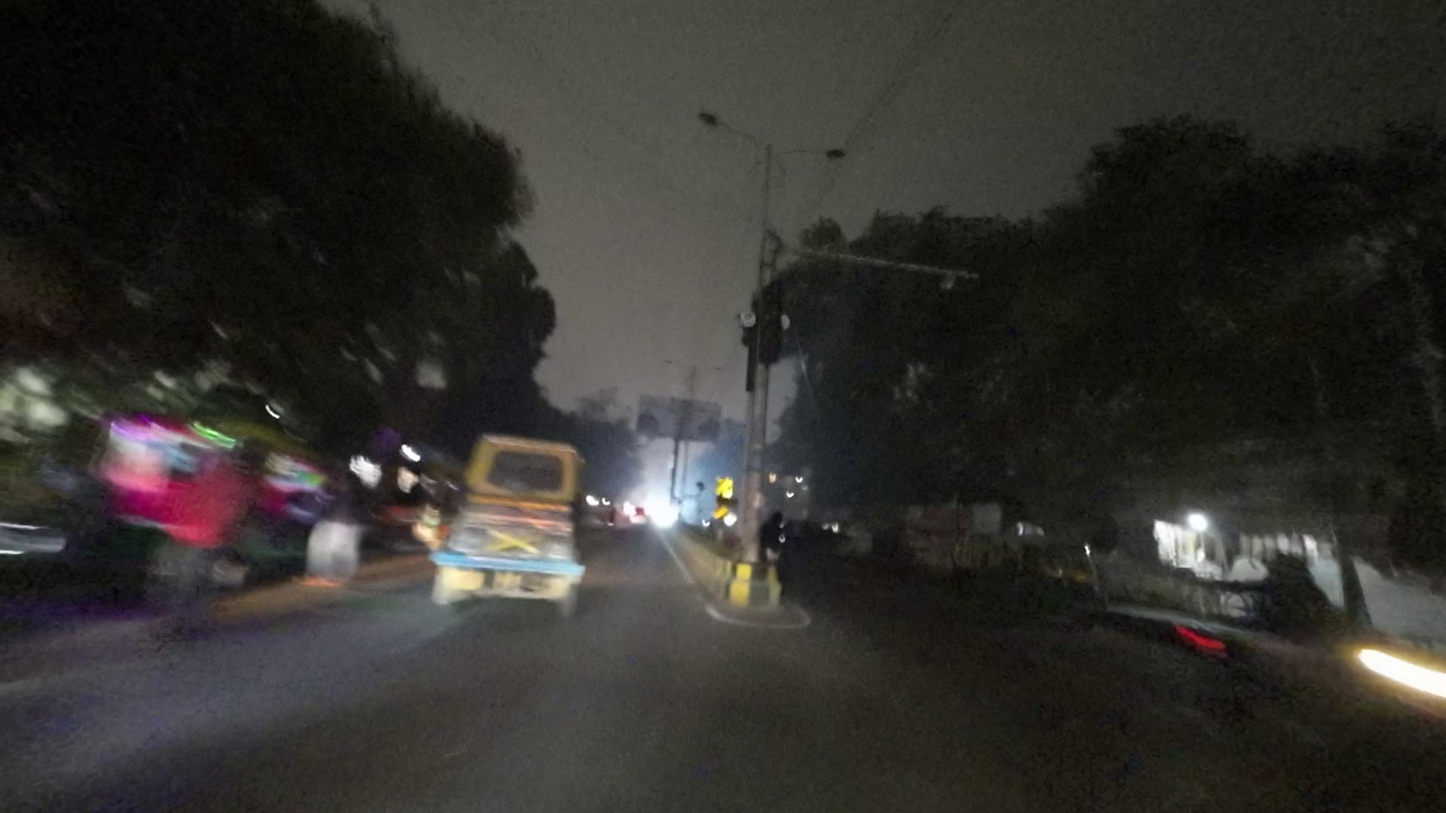streetlight: (697, 110, 767, 148), (773, 144, 847, 169)
